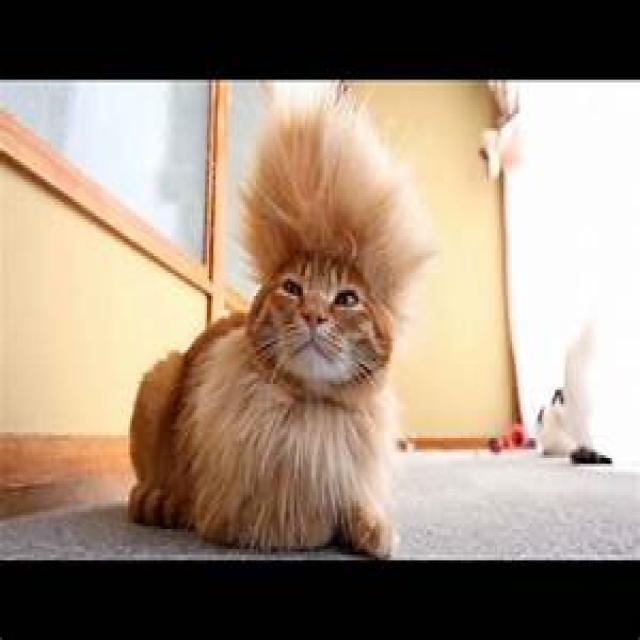KEDI: (124, 89, 423, 558)
